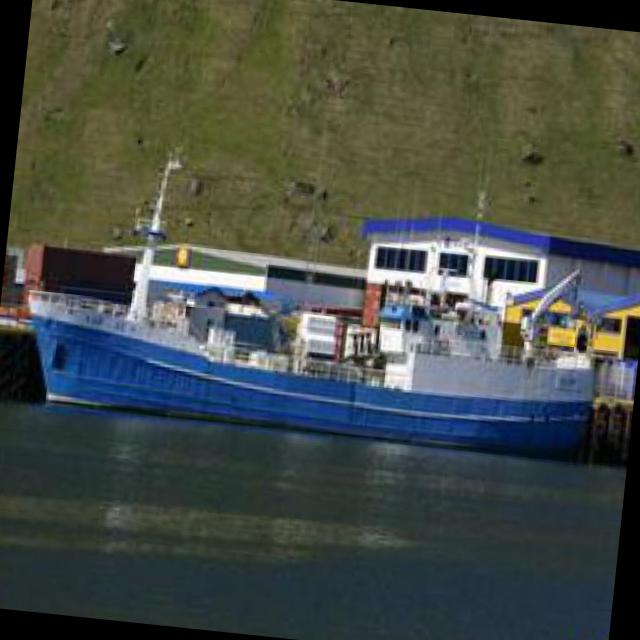boat: (0, 221, 602, 478)
